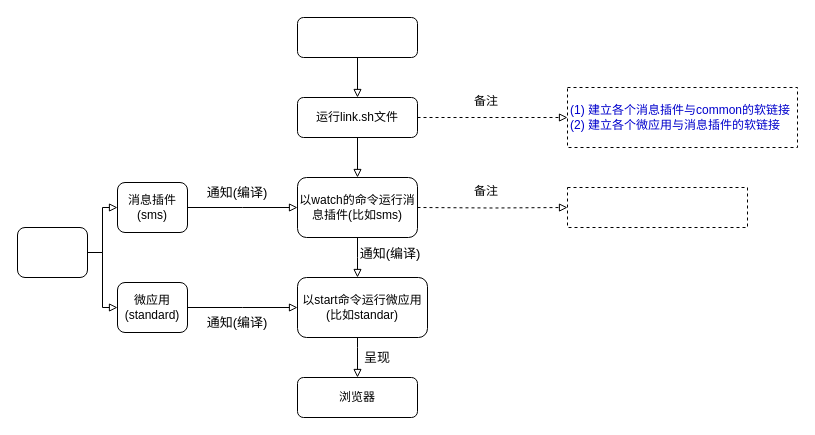
This 815x435 diagram has some shape labels left out. The shapes that lost their labels are listed below. From the top down, each one's centre as x and y in pixels, then its label:
At point (357, 37): "安装node_modules".
At point (657, 207): "实时动态编译消息插件的内容".
At point (52, 252): "编辑 (修改代码)".
